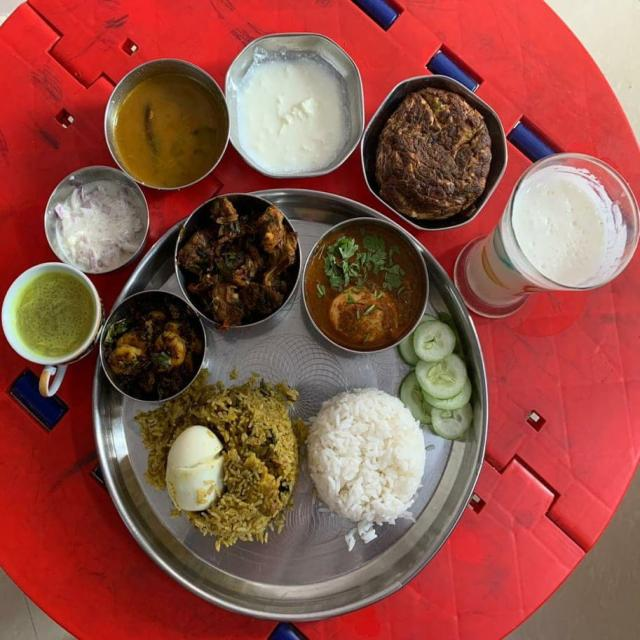non veg meals: (0, 25, 640, 599)
